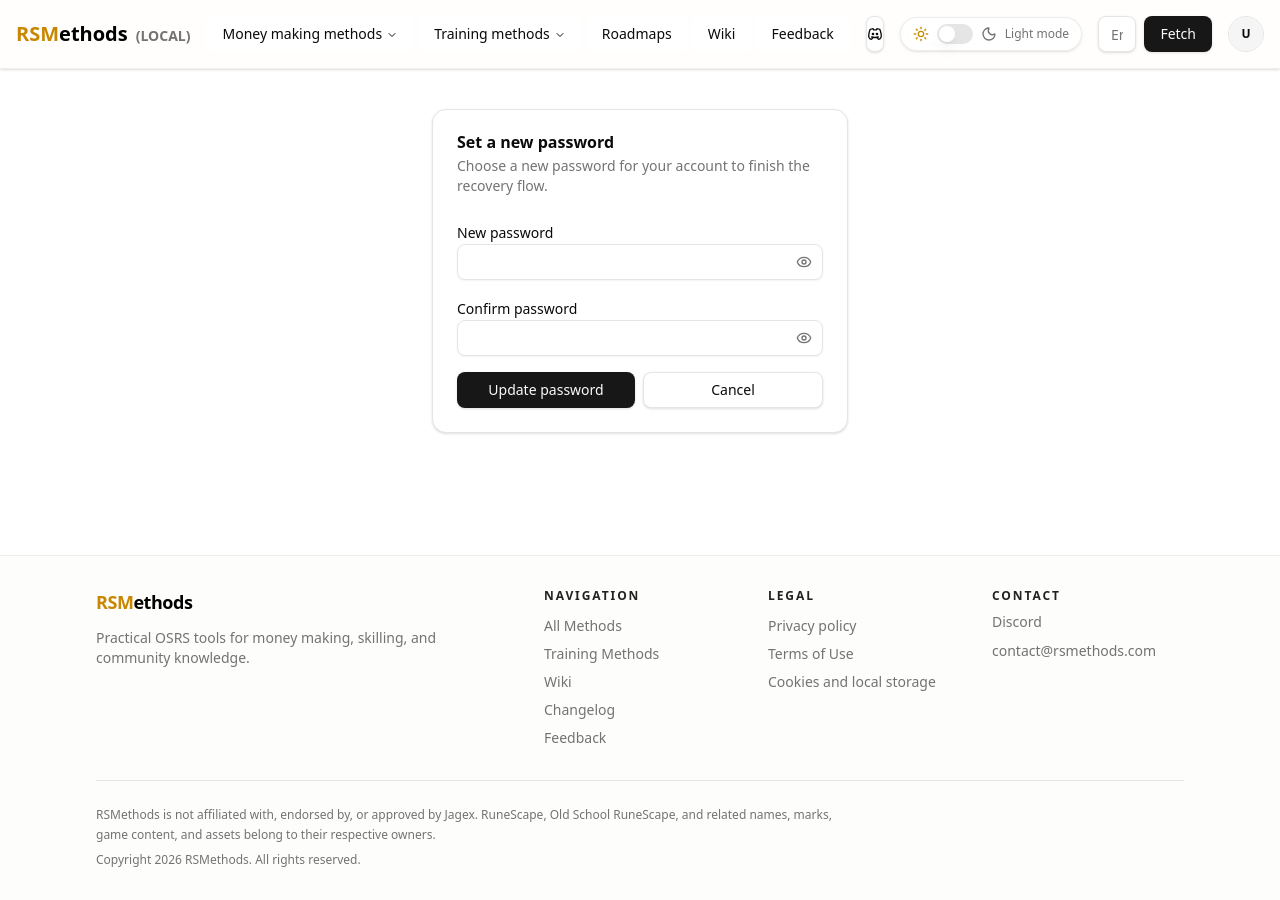
Test case: critical flow: password recovery routes › renders the recovery form when the session is in recovery mode
Expected: the text "Set a new password" is shown, [457,131,614,153]
In the password field labelled "New password": (625, 262) [458,244,792,280], type "new-password-123"
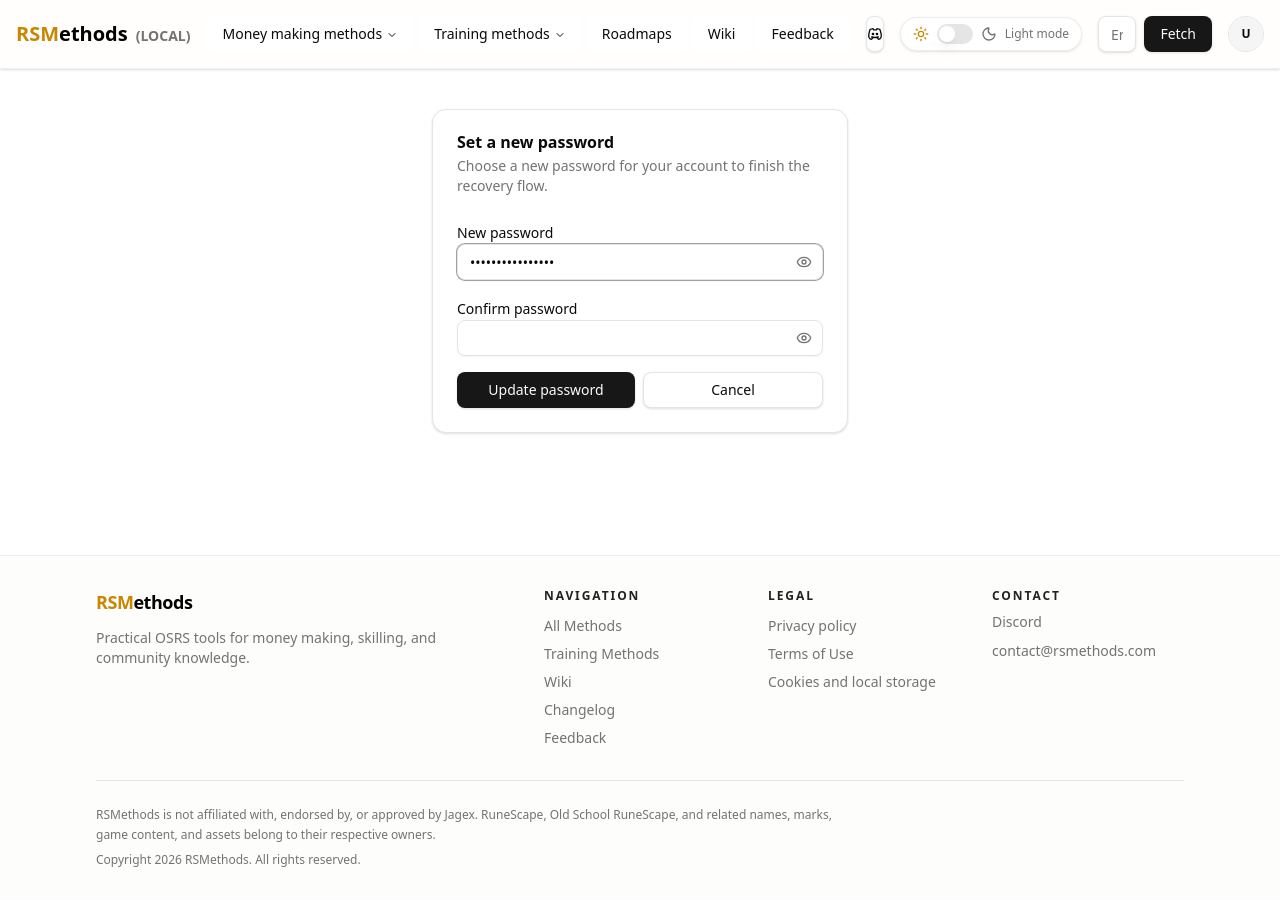
In the password field labelled "Confirm password": (625, 338) [458,320,792,356], type "new-password-123"
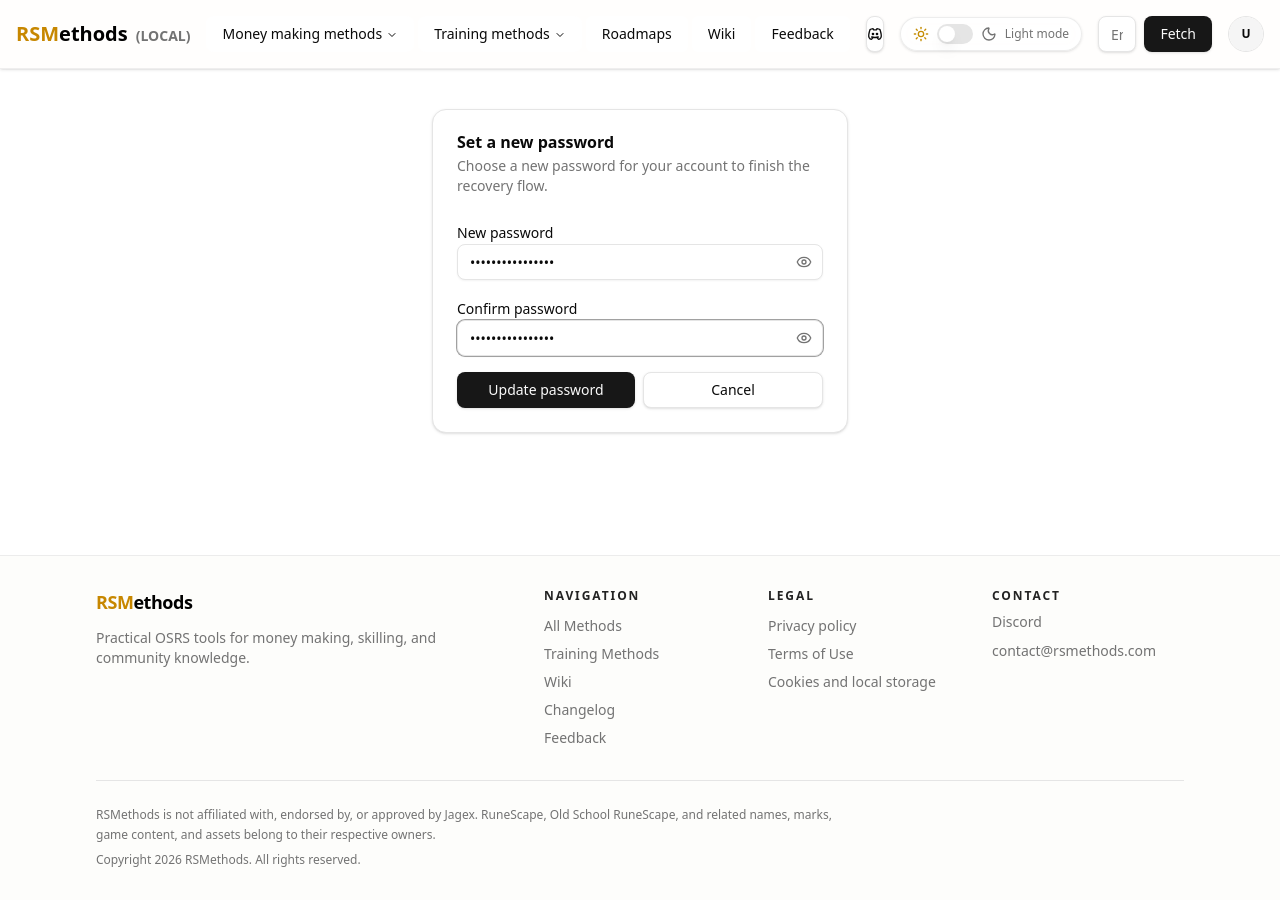
Click the button "Update password": (546, 390) [457,372,635,408]
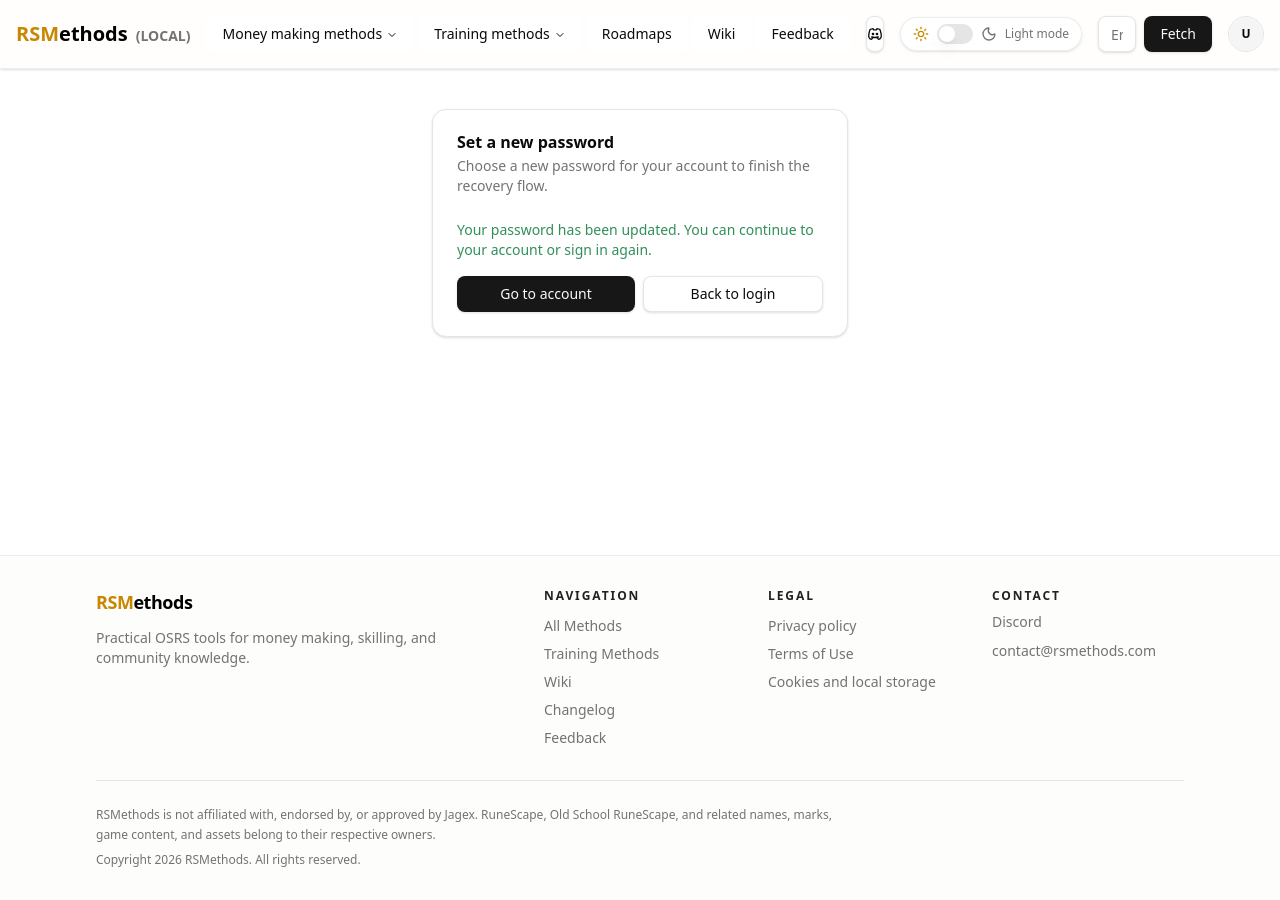
Result: the text "Your password has been updated. You can continue to your account or sign in again." is shown at [457,220,814,259]
